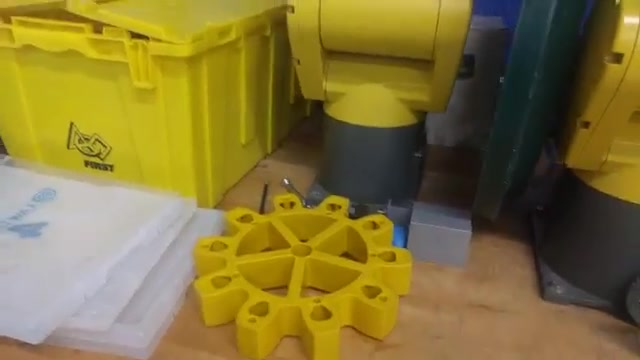gear: (193, 191, 413, 360)
